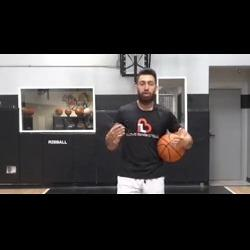BasketBall: (155, 130, 186, 163)
Player: (103, 67, 194, 194)
